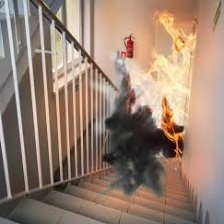smoke: (106, 79, 171, 188)
